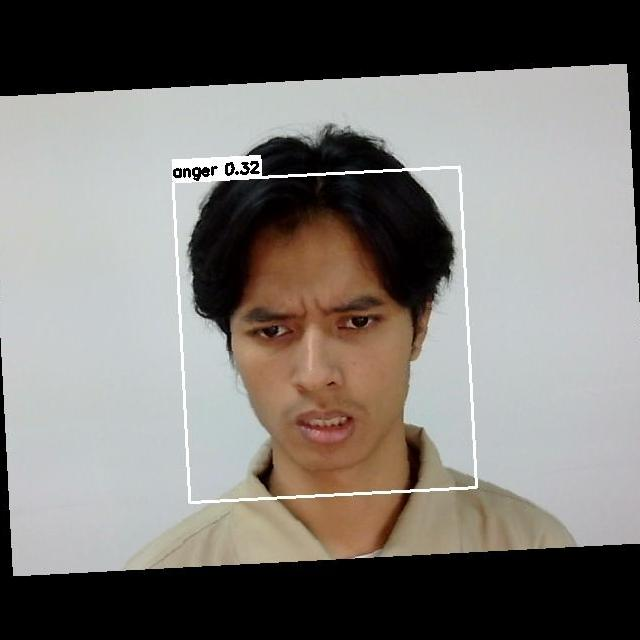Disgust: (229, 263, 414, 458)
